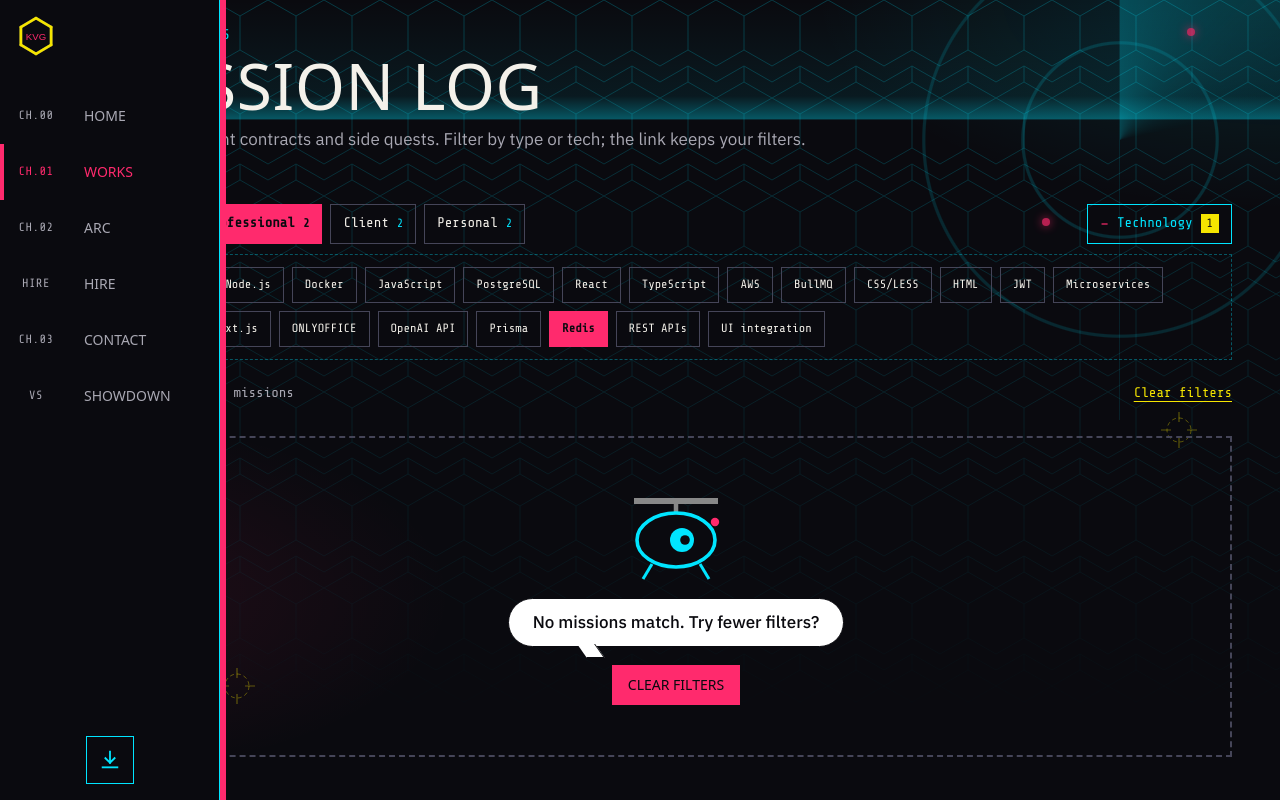
it: Works page › shows an empty state that clears filters
Check: the text "No missions match. Try fewer filters?" is shown, box [508,598,844,647]
Click the button "Clear filters" in the row of "Showing". click: (1183, 394)
box: [1134,376,1232,412]
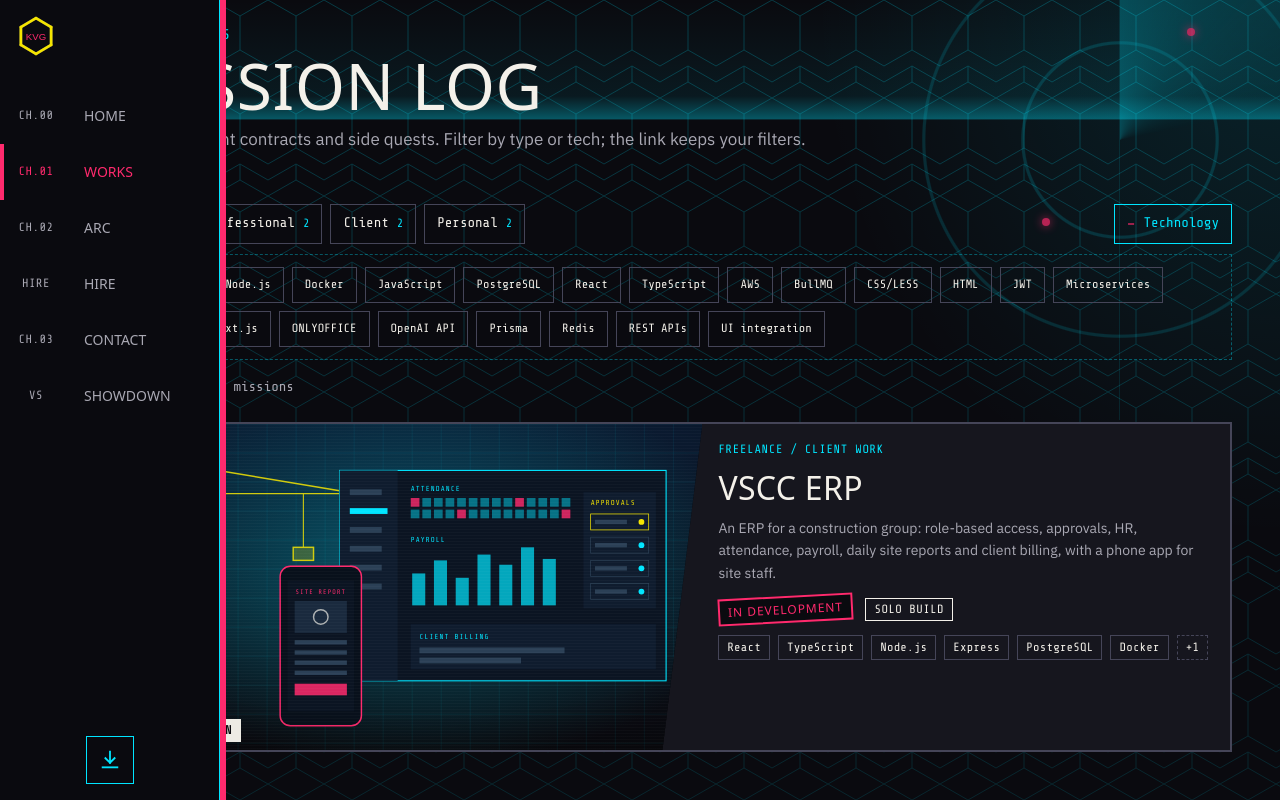
Check: the message reads "Showing 6 of 6 missions", box [120,376,294,398]
